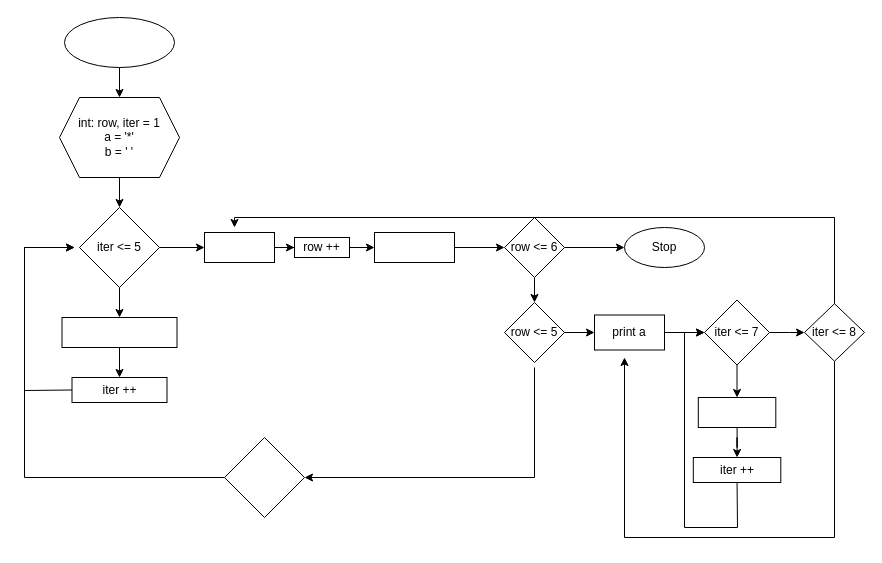
The diagram is 882 pixels wide and 563 high, and some of its shapes have lost their labels. Here are the shapes that lost their labels. From the top down, the centre of each, then its label:
At point (119, 42): "Start".
At point (239, 247): "print /n".
At point (414, 247): "iter = 1".
At point (119, 332): "print a,b".
At point (736, 412): "print b".
At point (264, 477): "row = 6".
